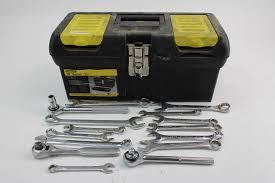wrench: (121, 147, 213, 168), (45, 93, 130, 113), (30, 140, 120, 157)
